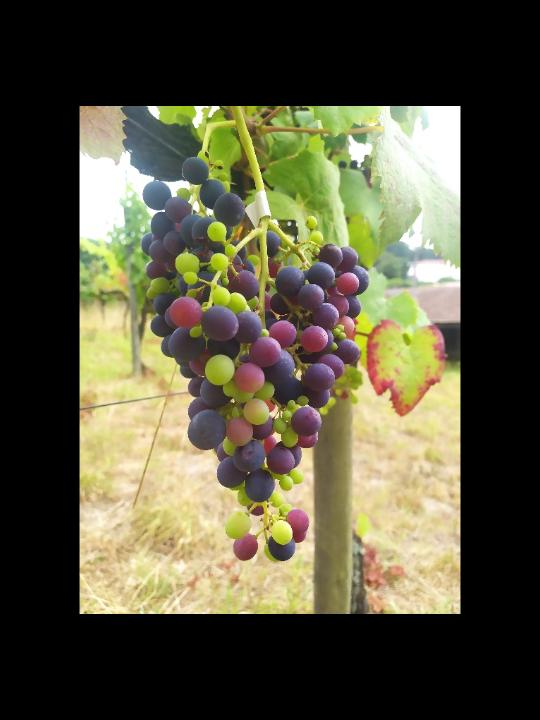grape: (137, 148, 372, 566)
